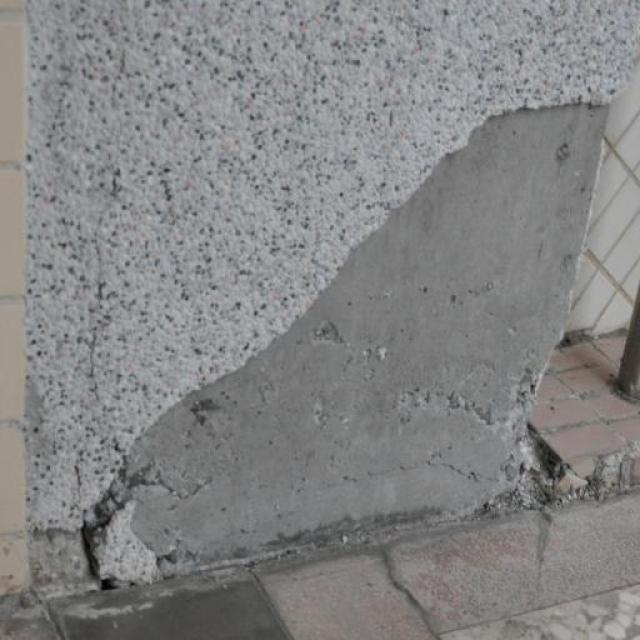D10: (28, 104, 608, 592)
